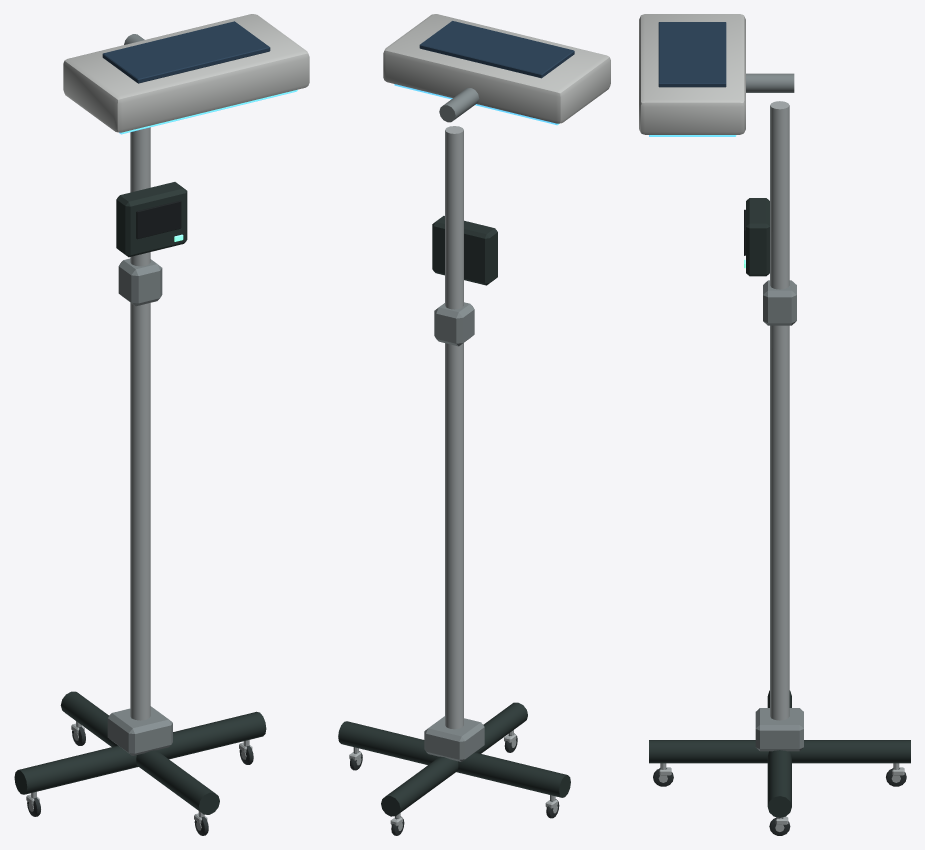
File: phototherapy-unit.glb
3 views of the same model, side by side, from view 1: azimuth 30°, elevation 25°; view 2: azimuth 150°, elevation 25°; view 3: azimuth 270°, elevation 25° (orthographic). The views are drawn at different scales.
Visible parts, largest first — view 1: phototherapy-unit; view 2: phototherapy-unit; view 3: phototherapy-unit.
Boxes of the visible parts, x1,y1,x2,y2 form: phototherapy-unit: [14, 14, 309, 835]; phototherapy-unit: [338, 14, 610, 835]; phototherapy-unit: [639, 14, 910, 835].
Bounding box in the file's own units: 0.54 × 1.67 × 0.56.
